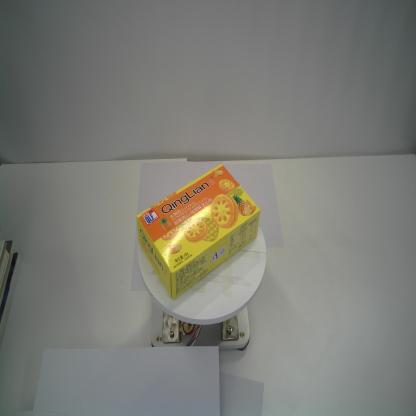Dessert: (136, 161, 261, 301)
